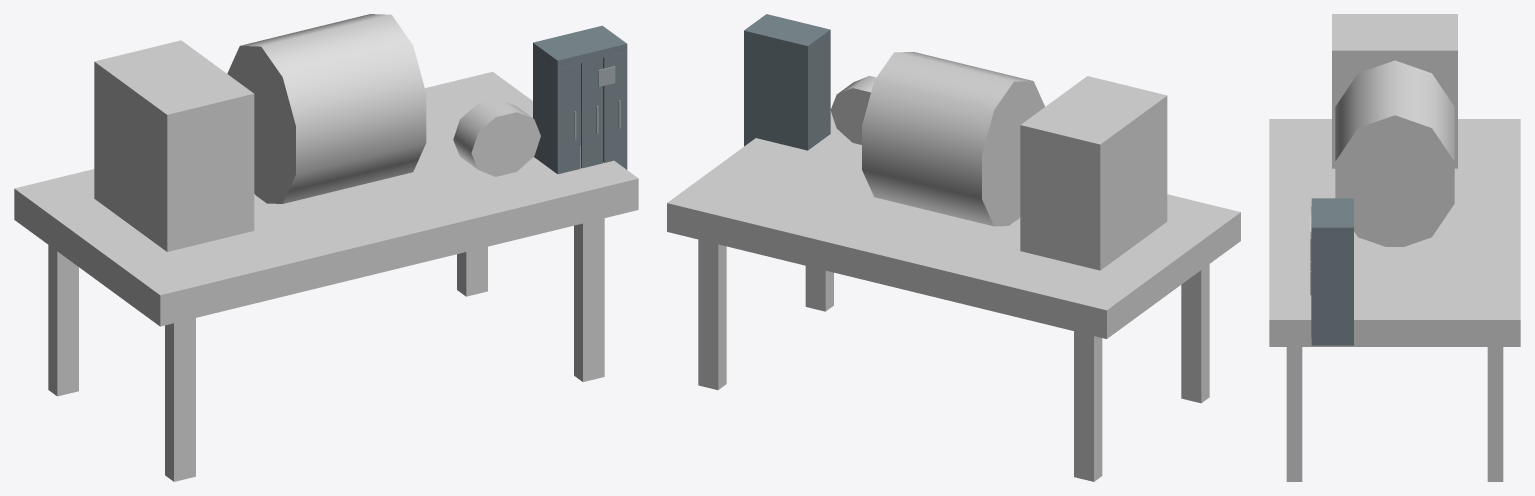
3 views of the same model, side by side, from view 1: azimuth 30°, elevation 25°; view 2: azimuth 150°, elevation 25°; view 3: azimuth 270°, elevation 25° (orthographic). The views are drawn at different scales.
Visible parts, largest first — view 1: worktable_5, housing_7, mandrel_8, forming_roller_9, leg_2, leg_4, leg_1, g0.011, g0.003, g0.006, g0.002, g0.005 (+1 smaller); view 2: worktable_5, housing_7, mandrel_8, g0.007, leg_1, leg_3, leg_2, g0.011, forming_roller_9, g0.005, leg_4; view 3: worktable_5, mandrel_8, housing_7, g0.008, leg_3, leg_4, g0.005, g0.007, g0.010.
Boxes of the visible parts, box(x1,y1,x2,y2) form: worktable_5: box(14, 71, 638, 326); housing_7: box(94, 40, 254, 251); mandrel_8: box(227, 14, 426, 203); forming_roller_9: box(453, 99, 540, 176); leg_2: box(165, 318, 195, 481); leg_4: box(574, 218, 604, 381); leg_1: box(48, 245, 78, 396); g0.011: box(533, 43, 559, 174); g0.003: box(559, 63, 580, 173); g0.006: box(603, 52, 625, 168); g0.002: box(581, 58, 602, 168); g0.005: box(535, 27, 626, 68); worktable_5: box(667, 112, 1240, 338); housing_7: box(1020, 76, 1167, 270); mandrel_8: box(862, 52, 1044, 226); g0.007: box(744, 29, 808, 149); leg_1: box(1074, 331, 1102, 481); leg_3: box(698, 239, 726, 389); leg_2: box(1181, 264, 1209, 403); g0.011: box(804, 30, 830, 150); forming_roller_9: box(830, 76, 876, 144); g0.005: box(745, 14, 829, 49); leg_4: box(805, 266, 833, 311); worktable_5: box(1269, 119, 1520, 346); mandrel_8: box(1335, 60, 1454, 246); housing_7: box(1332, 14, 1457, 168); g0.008: box(1311, 229, 1351, 338); leg_3: box(1487, 347, 1503, 481); leg_4: box(1286, 347, 1302, 481); g0.005: box(1311, 198, 1353, 234); g0.007: box(1351, 198, 1353, 345); g0.010: box(1311, 338, 1353, 345).
Size of the model in its own units: 3.5 by 2.4 by 1.8.
